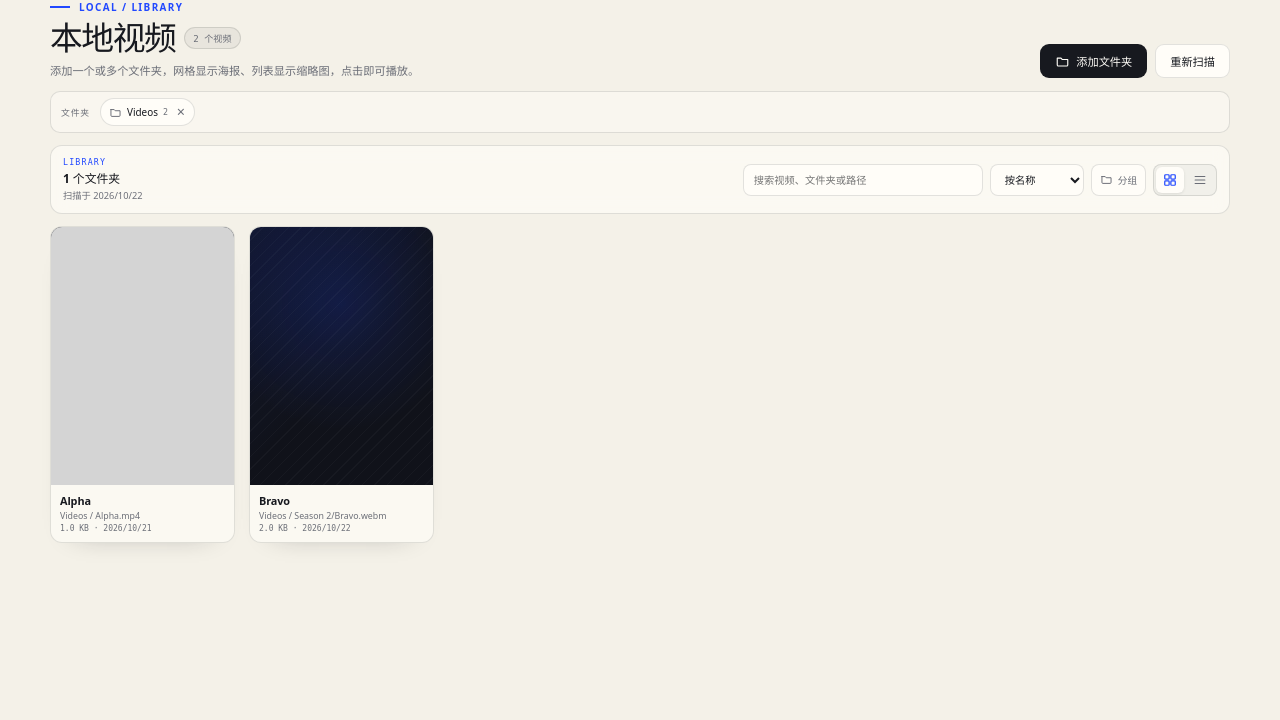
Test case: LocalVideoPage › asks for confirmation before removing a folder
What coordinates should you click on to do the following:
click the button named "移除文件夹 Videos"
I would click on:
 (181, 112)
Its box is [171,102,191,122].
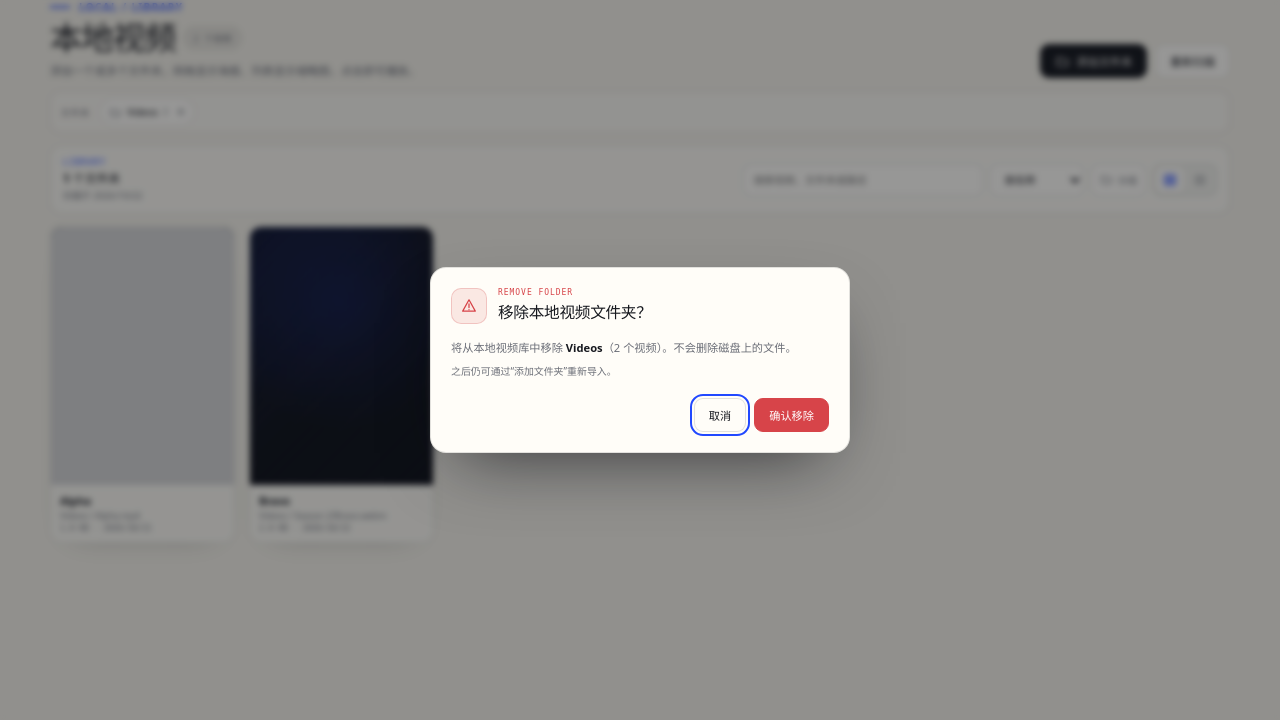
Expected: the dialog "移除本地视频文件夹？" shows "Videos", [566,340,603,355]
Expected: the dialog "移除本地视频文件夹？" shows "不会删除磁盘上的文件", [662,340,797,355]
What coordinates should you click on to do the following:
click the button "取消"
I would click on:
 (720, 415)
Its box is [694,398,746,432].
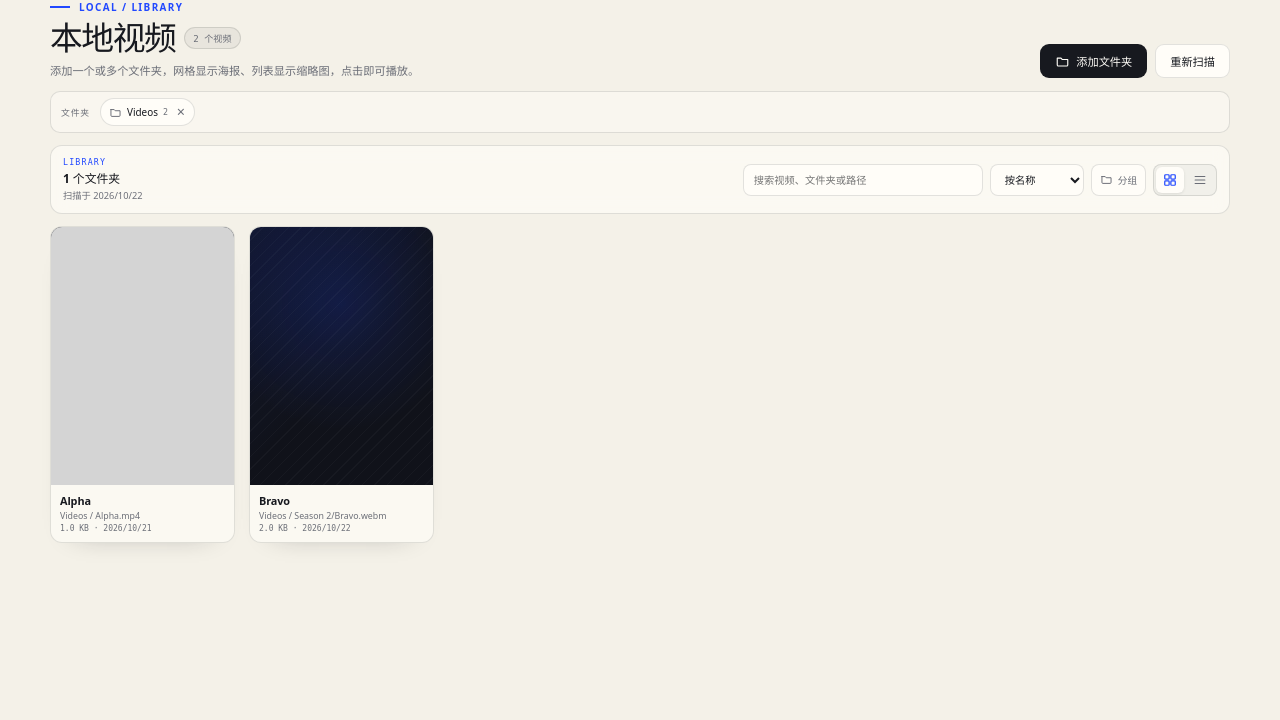
Expected: the dialog is gone
What coordinates should you click on to do the following:
click the button named "移除文件夹 Videos"
I would click on:
 (181, 112)
Its box is [171,102,191,122].
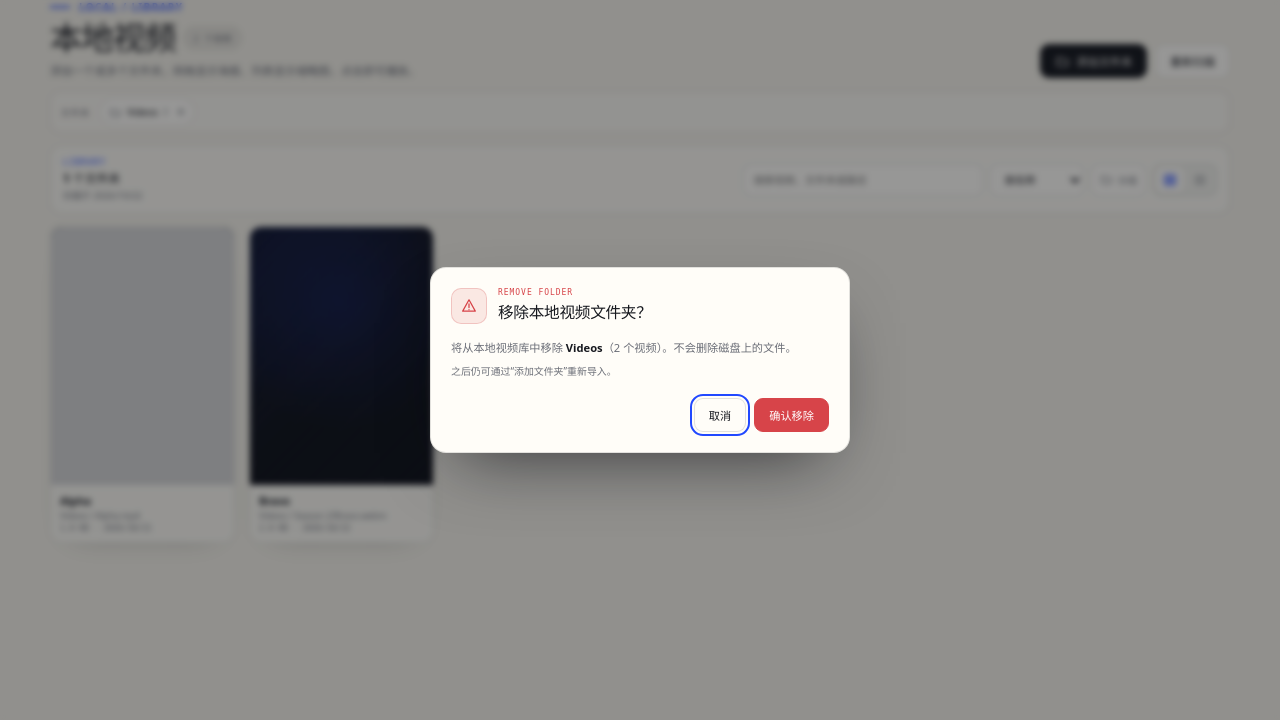
What coordinates should you click on to do the following:
click the button "确认移除"
I would click on:
 (792, 415)
Its box is [754,398,829,432].
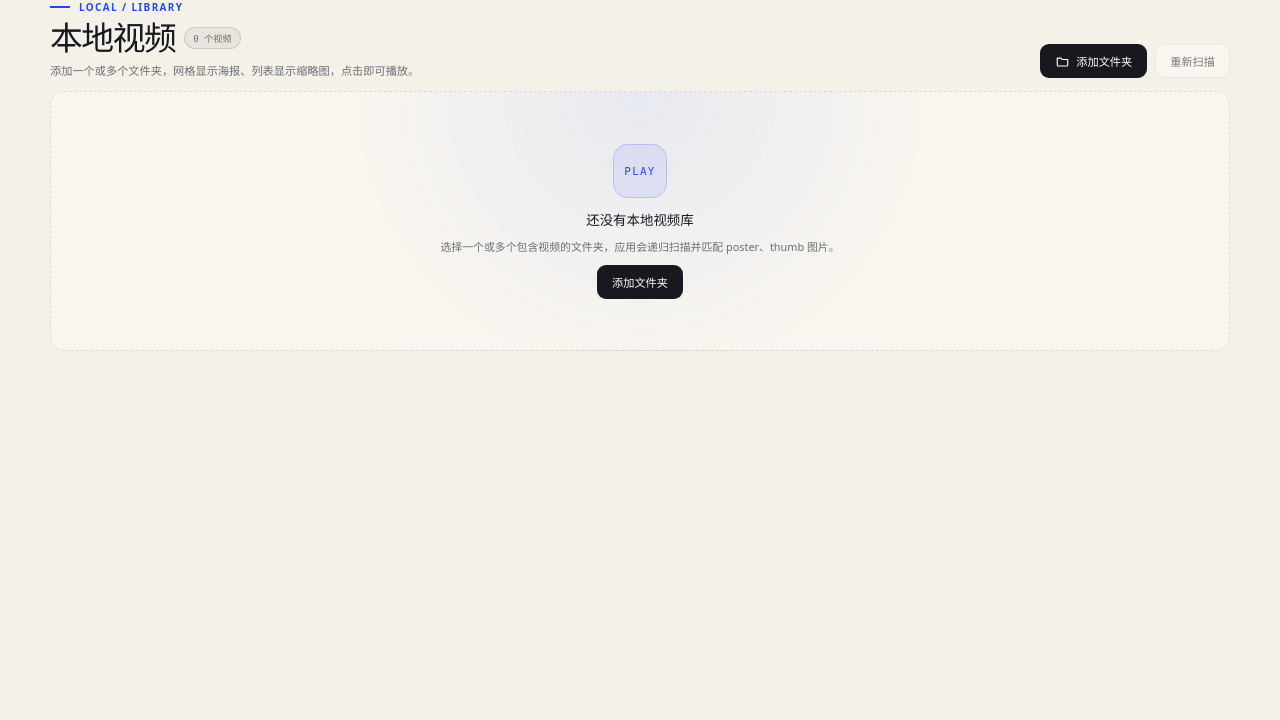
Expected: the text "还没有本地视频库" is shown, [586,209,694,229]
